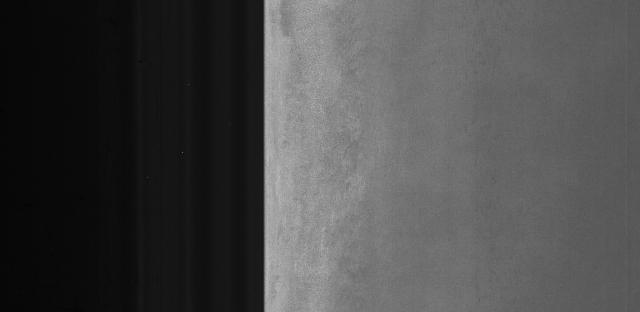silk_spot: (321, 64, 377, 273)
